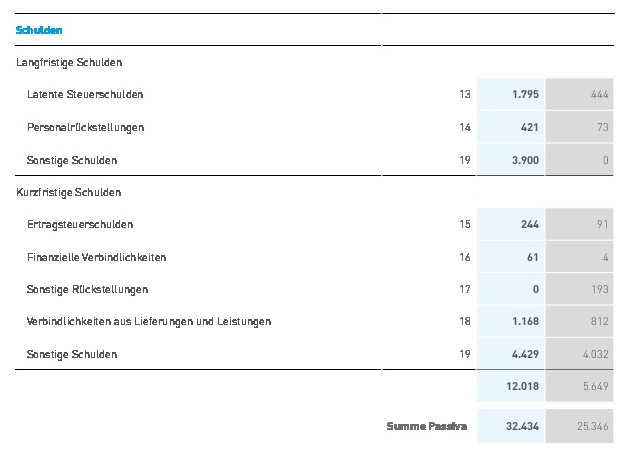table: (0, 0, 626, 452)
